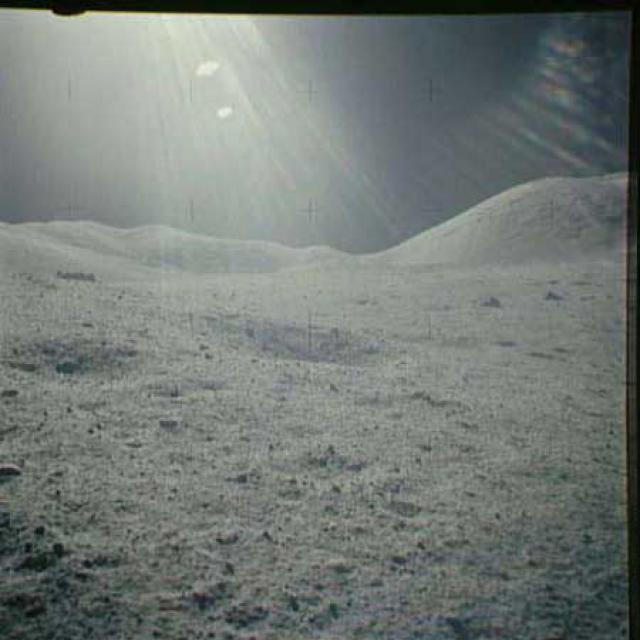crater: (223, 318, 391, 374), (11, 330, 156, 394)
